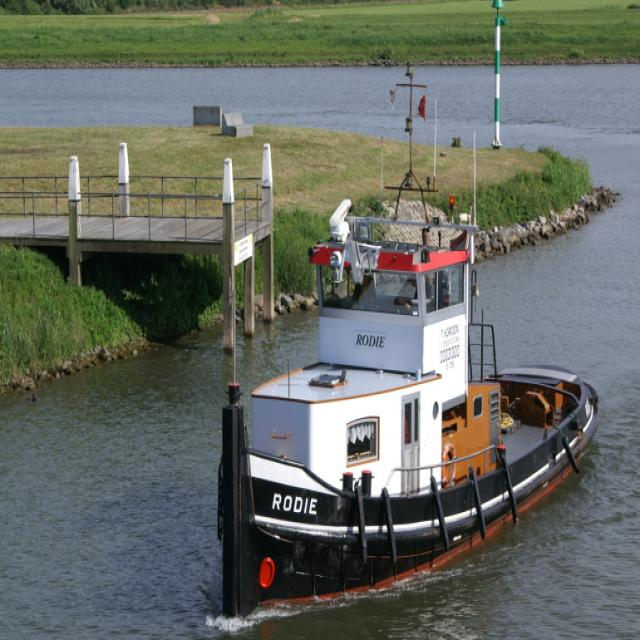tugboat: (217, 192, 605, 635)
